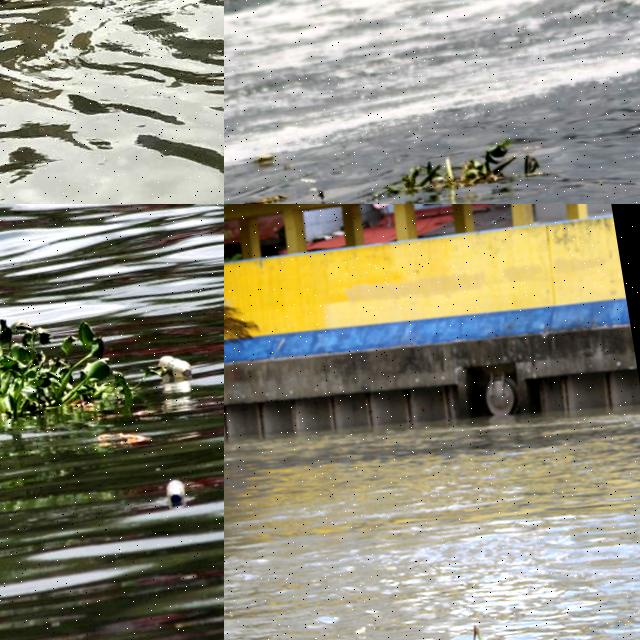water-hyacinth: (1, 303, 225, 478), (373, 132, 531, 205)
